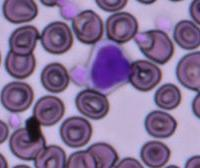M: (83, 39, 134, 96)
